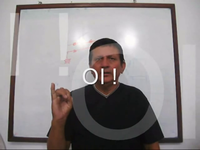oi: (49, 81, 75, 119)
